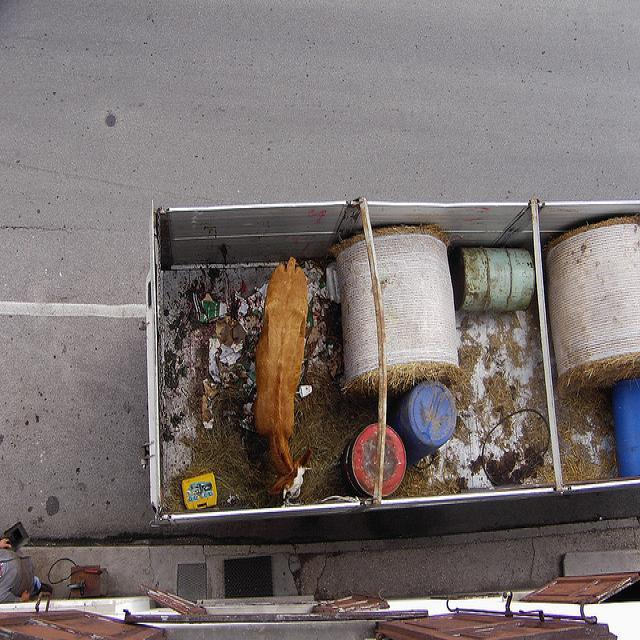cow: (251, 255, 311, 499)
